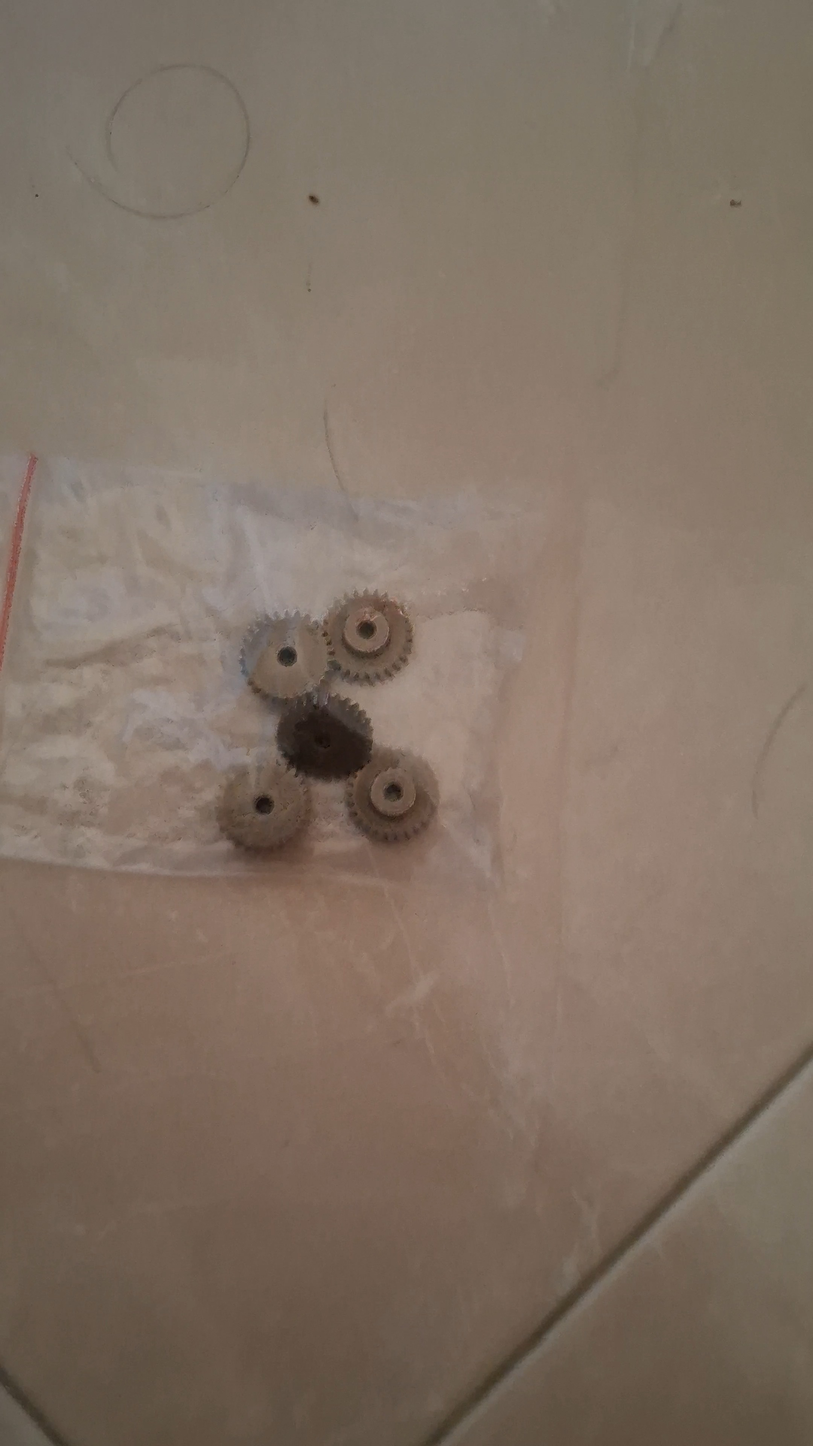spur gear: (347, 749, 438, 841), (218, 759, 311, 849), (277, 690, 372, 778), (324, 592, 413, 682), (241, 613, 329, 701)
